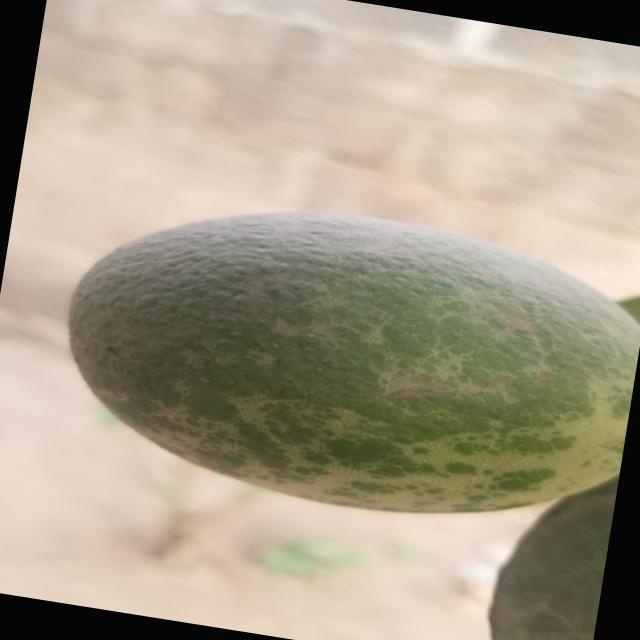agrume: (37, 165, 640, 545)
